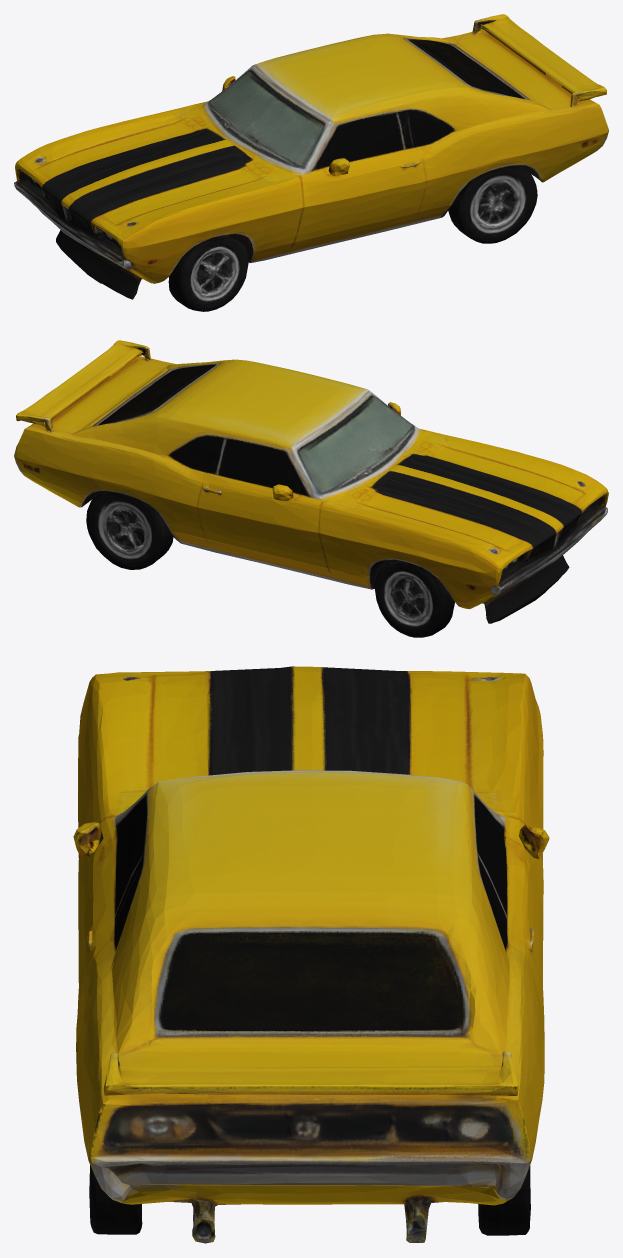
File: aso-sam3d.glb
3 views of the same model, one above another, from view 1: azimuth 30°, elevation 25°; view 2: azimuth 150°, elevation 25°; view 3: azimuth 270°, elevation 25° (orthographic). The views are drawn at different scales.
Visible parts, largest first — view 1: geometry_0; view 2: geometry_0; view 3: geometry_0.
Part boxes in pixels (box(x1,y1,x2,y2)): geometry_0: box(14, 14, 608, 311); geometry_0: box(14, 340, 608, 637); geometry_0: box(73, 666, 549, 1243).
Bounding box in the file's own units: 0.9952 × 0.3 × 0.4168.
Materials: 1 (1 with a texture image).
